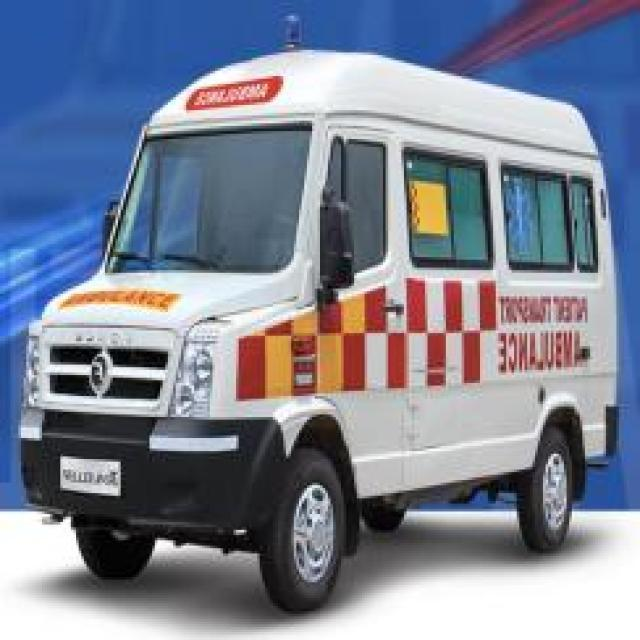Ambulance: (0, 2, 637, 632), (0, 500, 637, 637)
